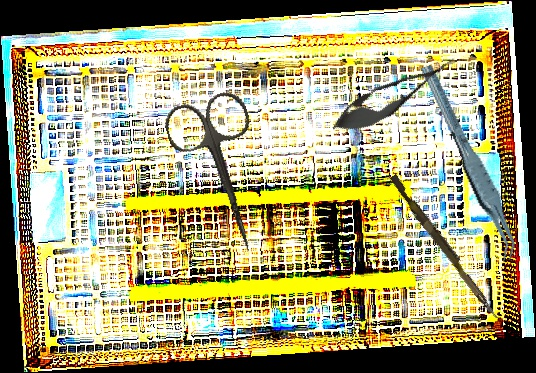Iris Scissors: (160, 87, 287, 264)
Micro Scissor: (324, 44, 465, 145)
Pusher: (386, 173, 504, 321)
Tissue Forceps: (419, 56, 521, 269)
